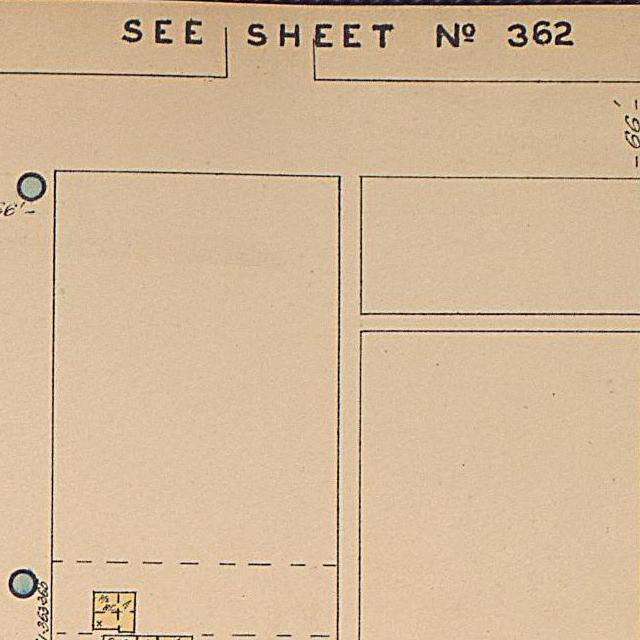building-footprints: (93, 592, 135, 632), (103, 635, 137, 640), (157, 636, 192, 640), (137, 635, 158, 640)
